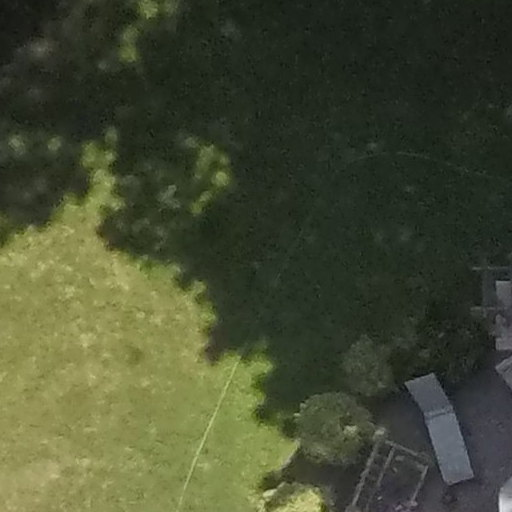chair: (401, 368, 498, 499)
